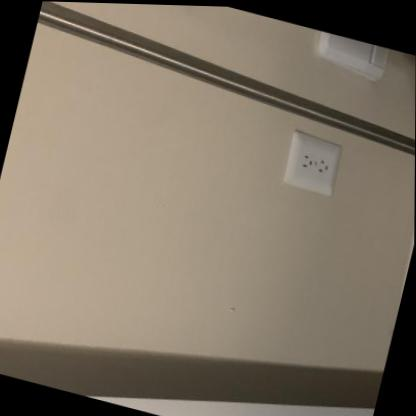OUTLET: (281, 129, 345, 197)
